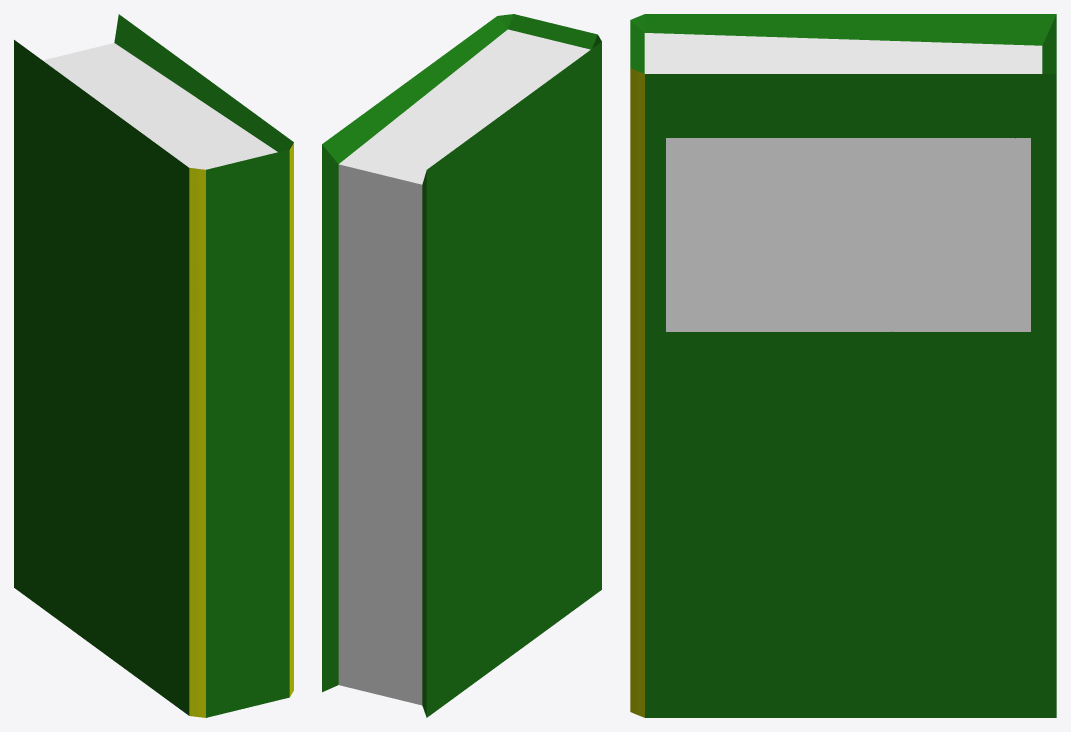
Rendered from Book.gltf.
3 renders of one model, left to right at view 1: azimuth 30°, elevation 25°; view 2: azimuth 150°, elevation 25°; view 3: azimuth 270°, elevation 25°, orthographic. The views are drawn at different scales.
Parts seen in each view (by area): view 1: cuboid; view 2: cuboid; view 3: cuboid.
Part boxes in pixels (x1,y1,x2,y2): cuboid: [14, 14, 293, 717]; cuboid: [322, 14, 601, 717]; cuboid: [630, 14, 1056, 717].
Size of the model in its own units: 0.125 by 0.625 by 0.375.
